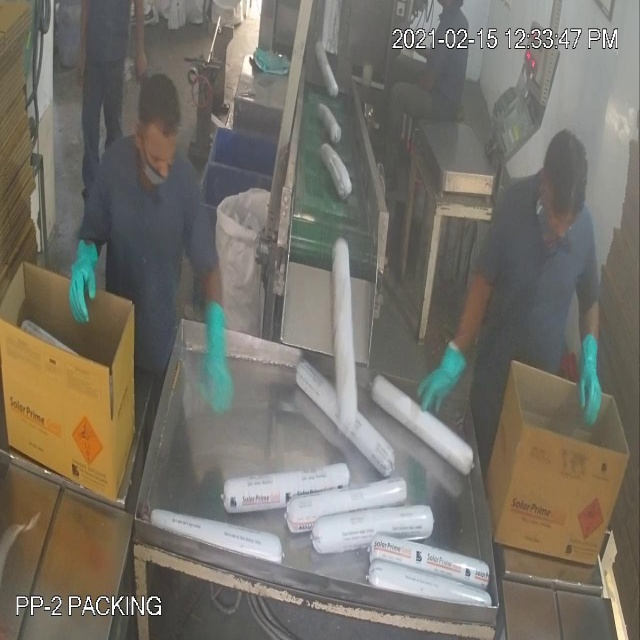Guantes: (192, 278, 243, 433), (405, 327, 477, 430), (66, 224, 114, 340), (571, 317, 612, 439)
Sin_guantes: (127, 1, 154, 85), (75, 1, 94, 92)
